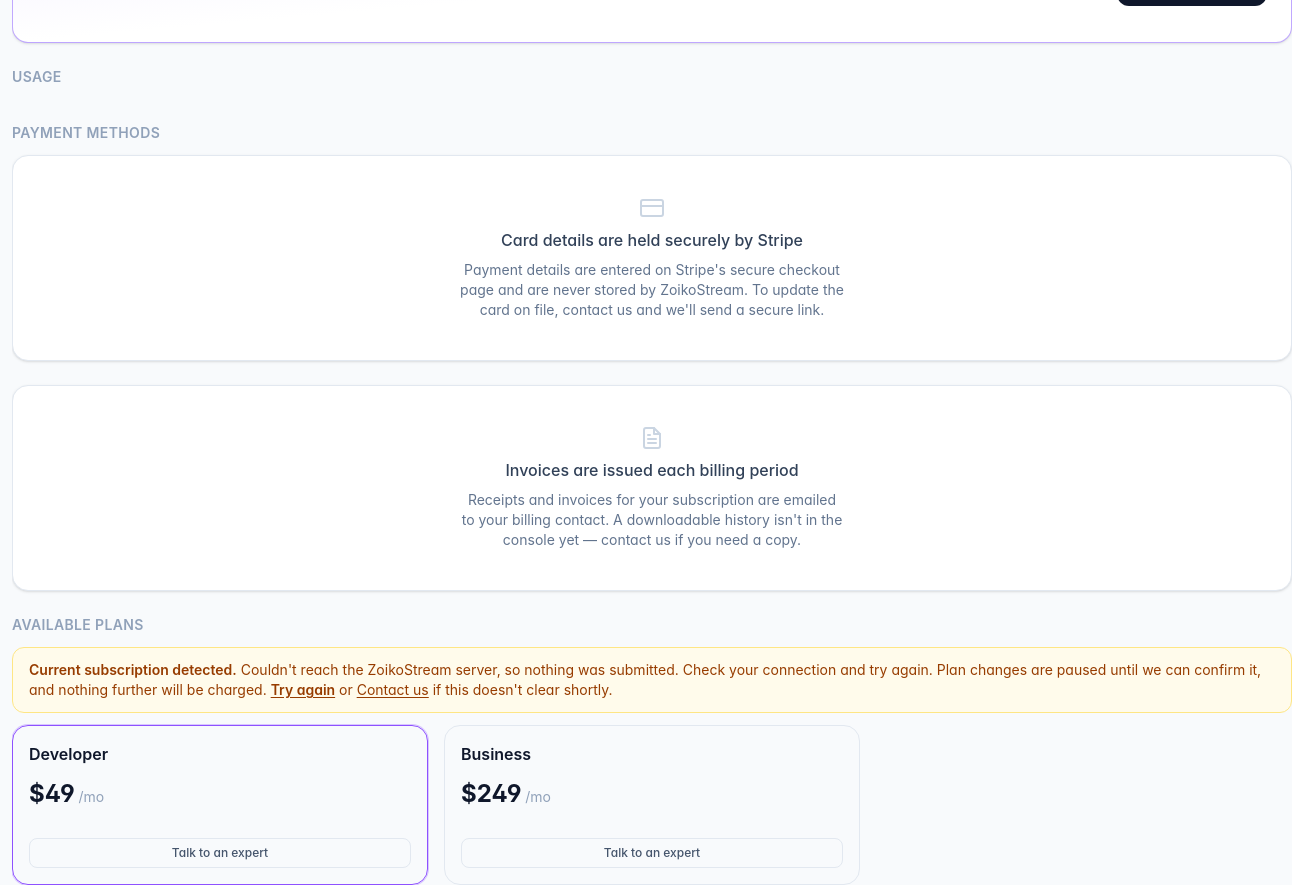
when the repair request never reaches the server › recovers the page when a later attempt succeeds
(page scrolled)
Check: the heading "Available Plans" is shown, box [12,615,144,635]
Click the button "Try again" at (303, 690), box [271,680,335,700]
(page scrolled)
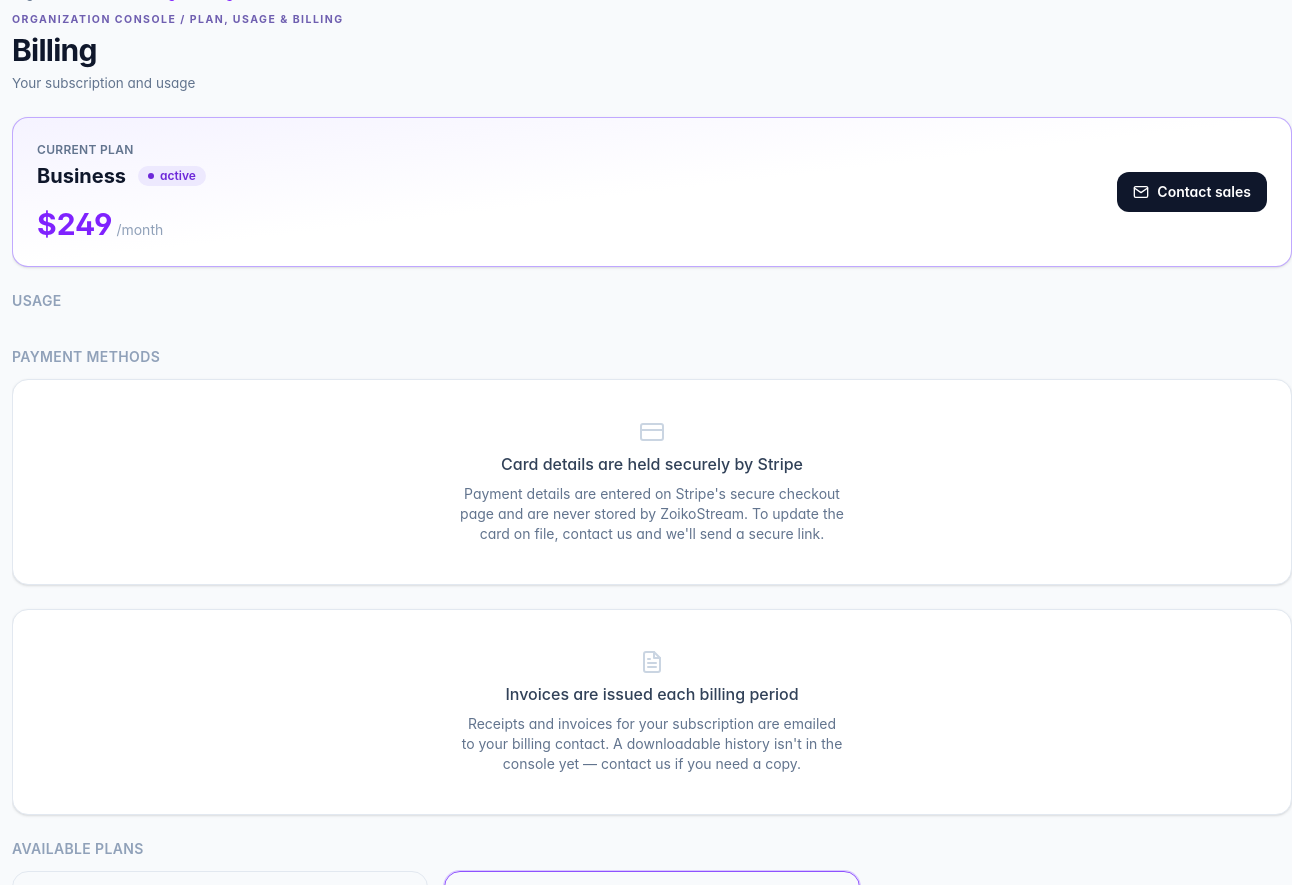
Check: the message is gone
